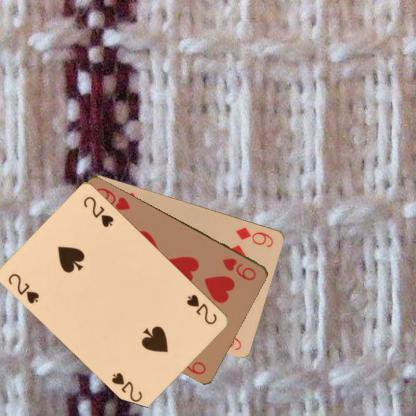2s: (6, 270, 41, 305), (184, 292, 219, 326)
6d: (233, 224, 275, 249)
9h: (220, 254, 259, 282)
